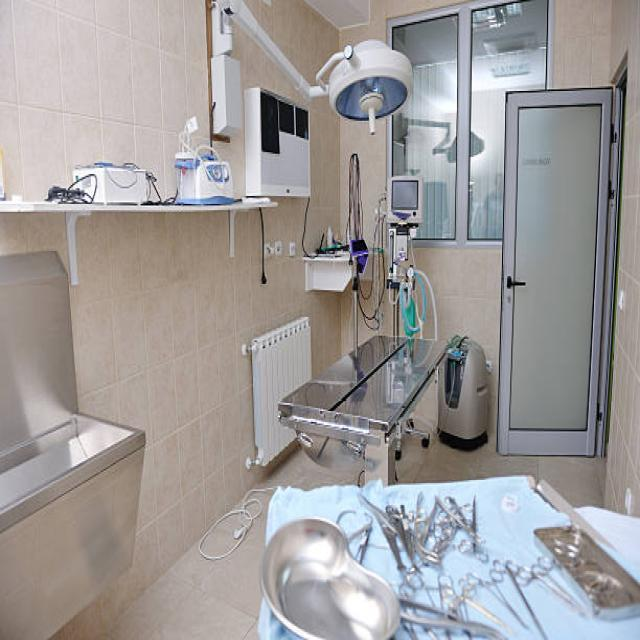Monitor: (384, 163, 430, 230)
bed: (282, 330, 458, 486)
tools_table: (260, 471, 640, 640)
